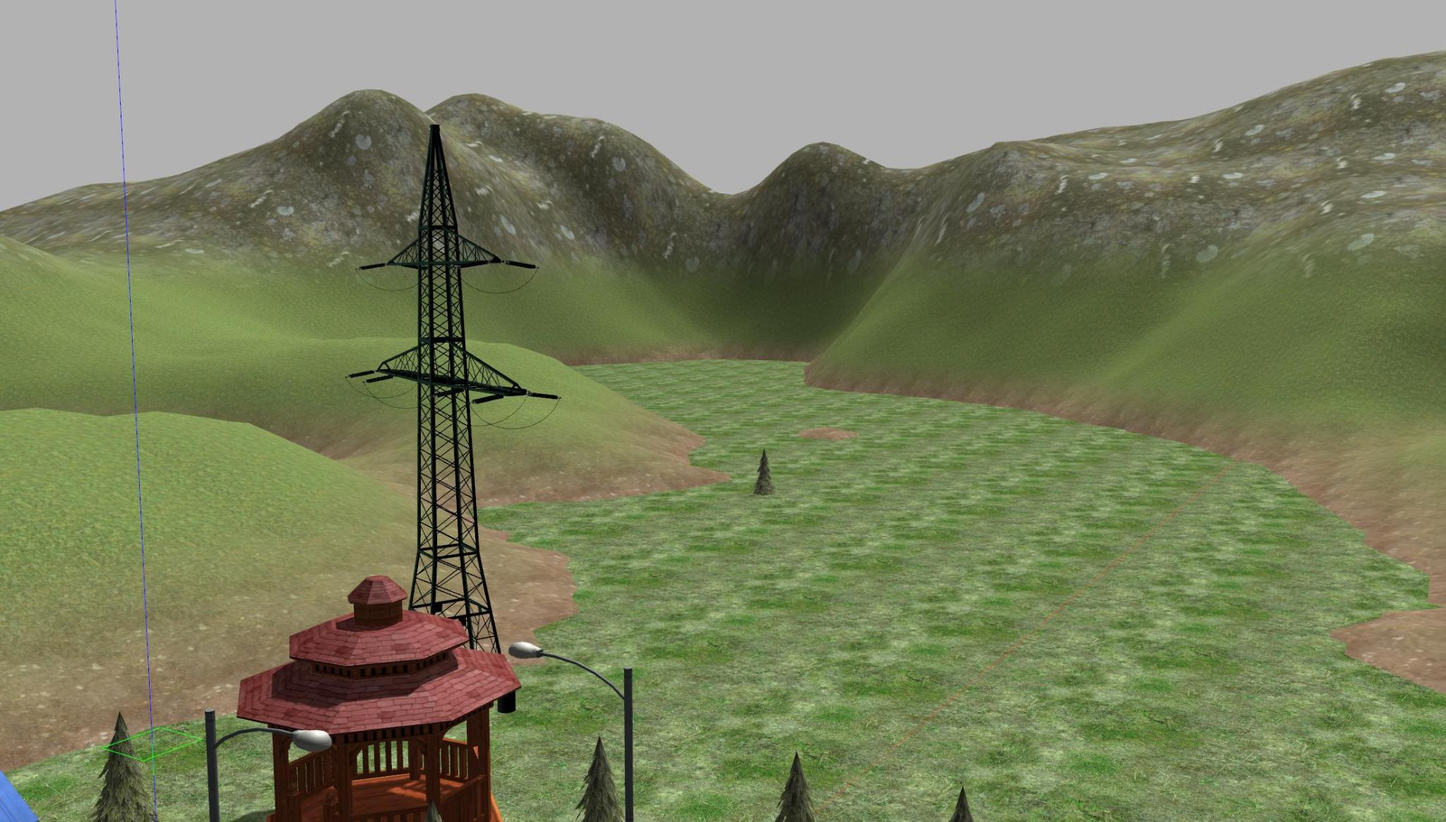tower: (390, 124, 521, 603)
